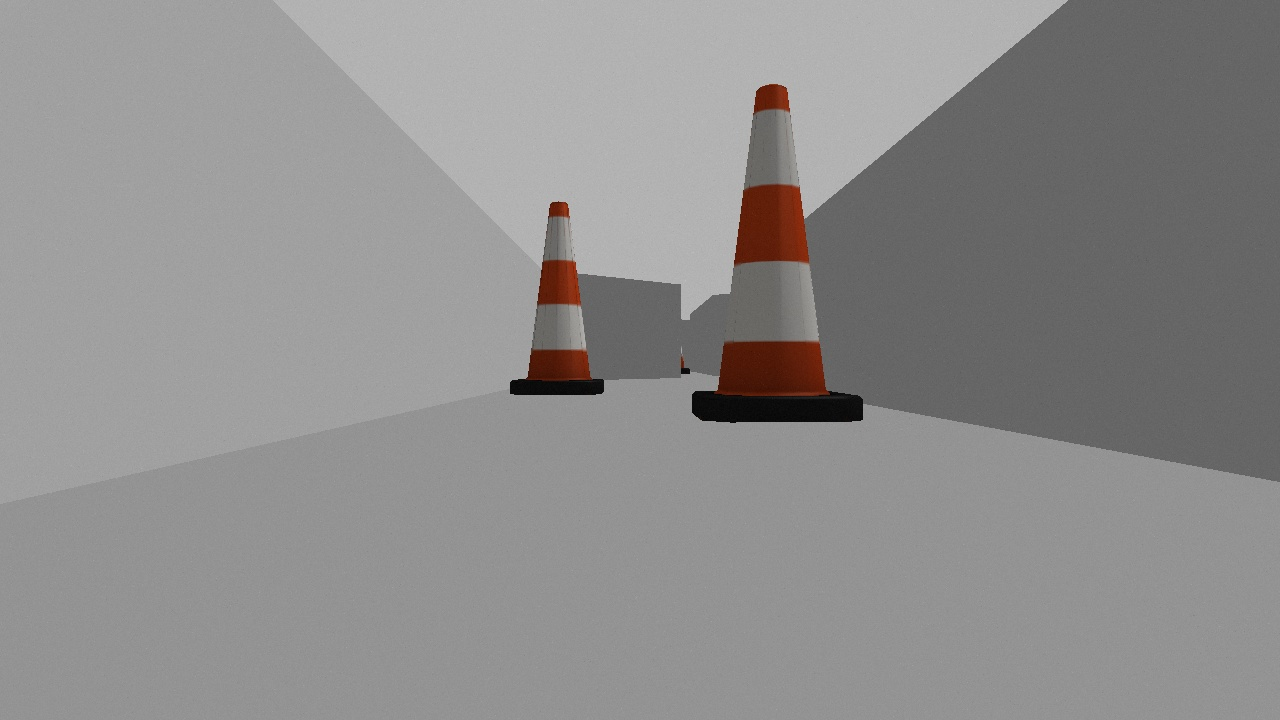barricade: (689, 80, 863, 422), (508, 199, 603, 396)
